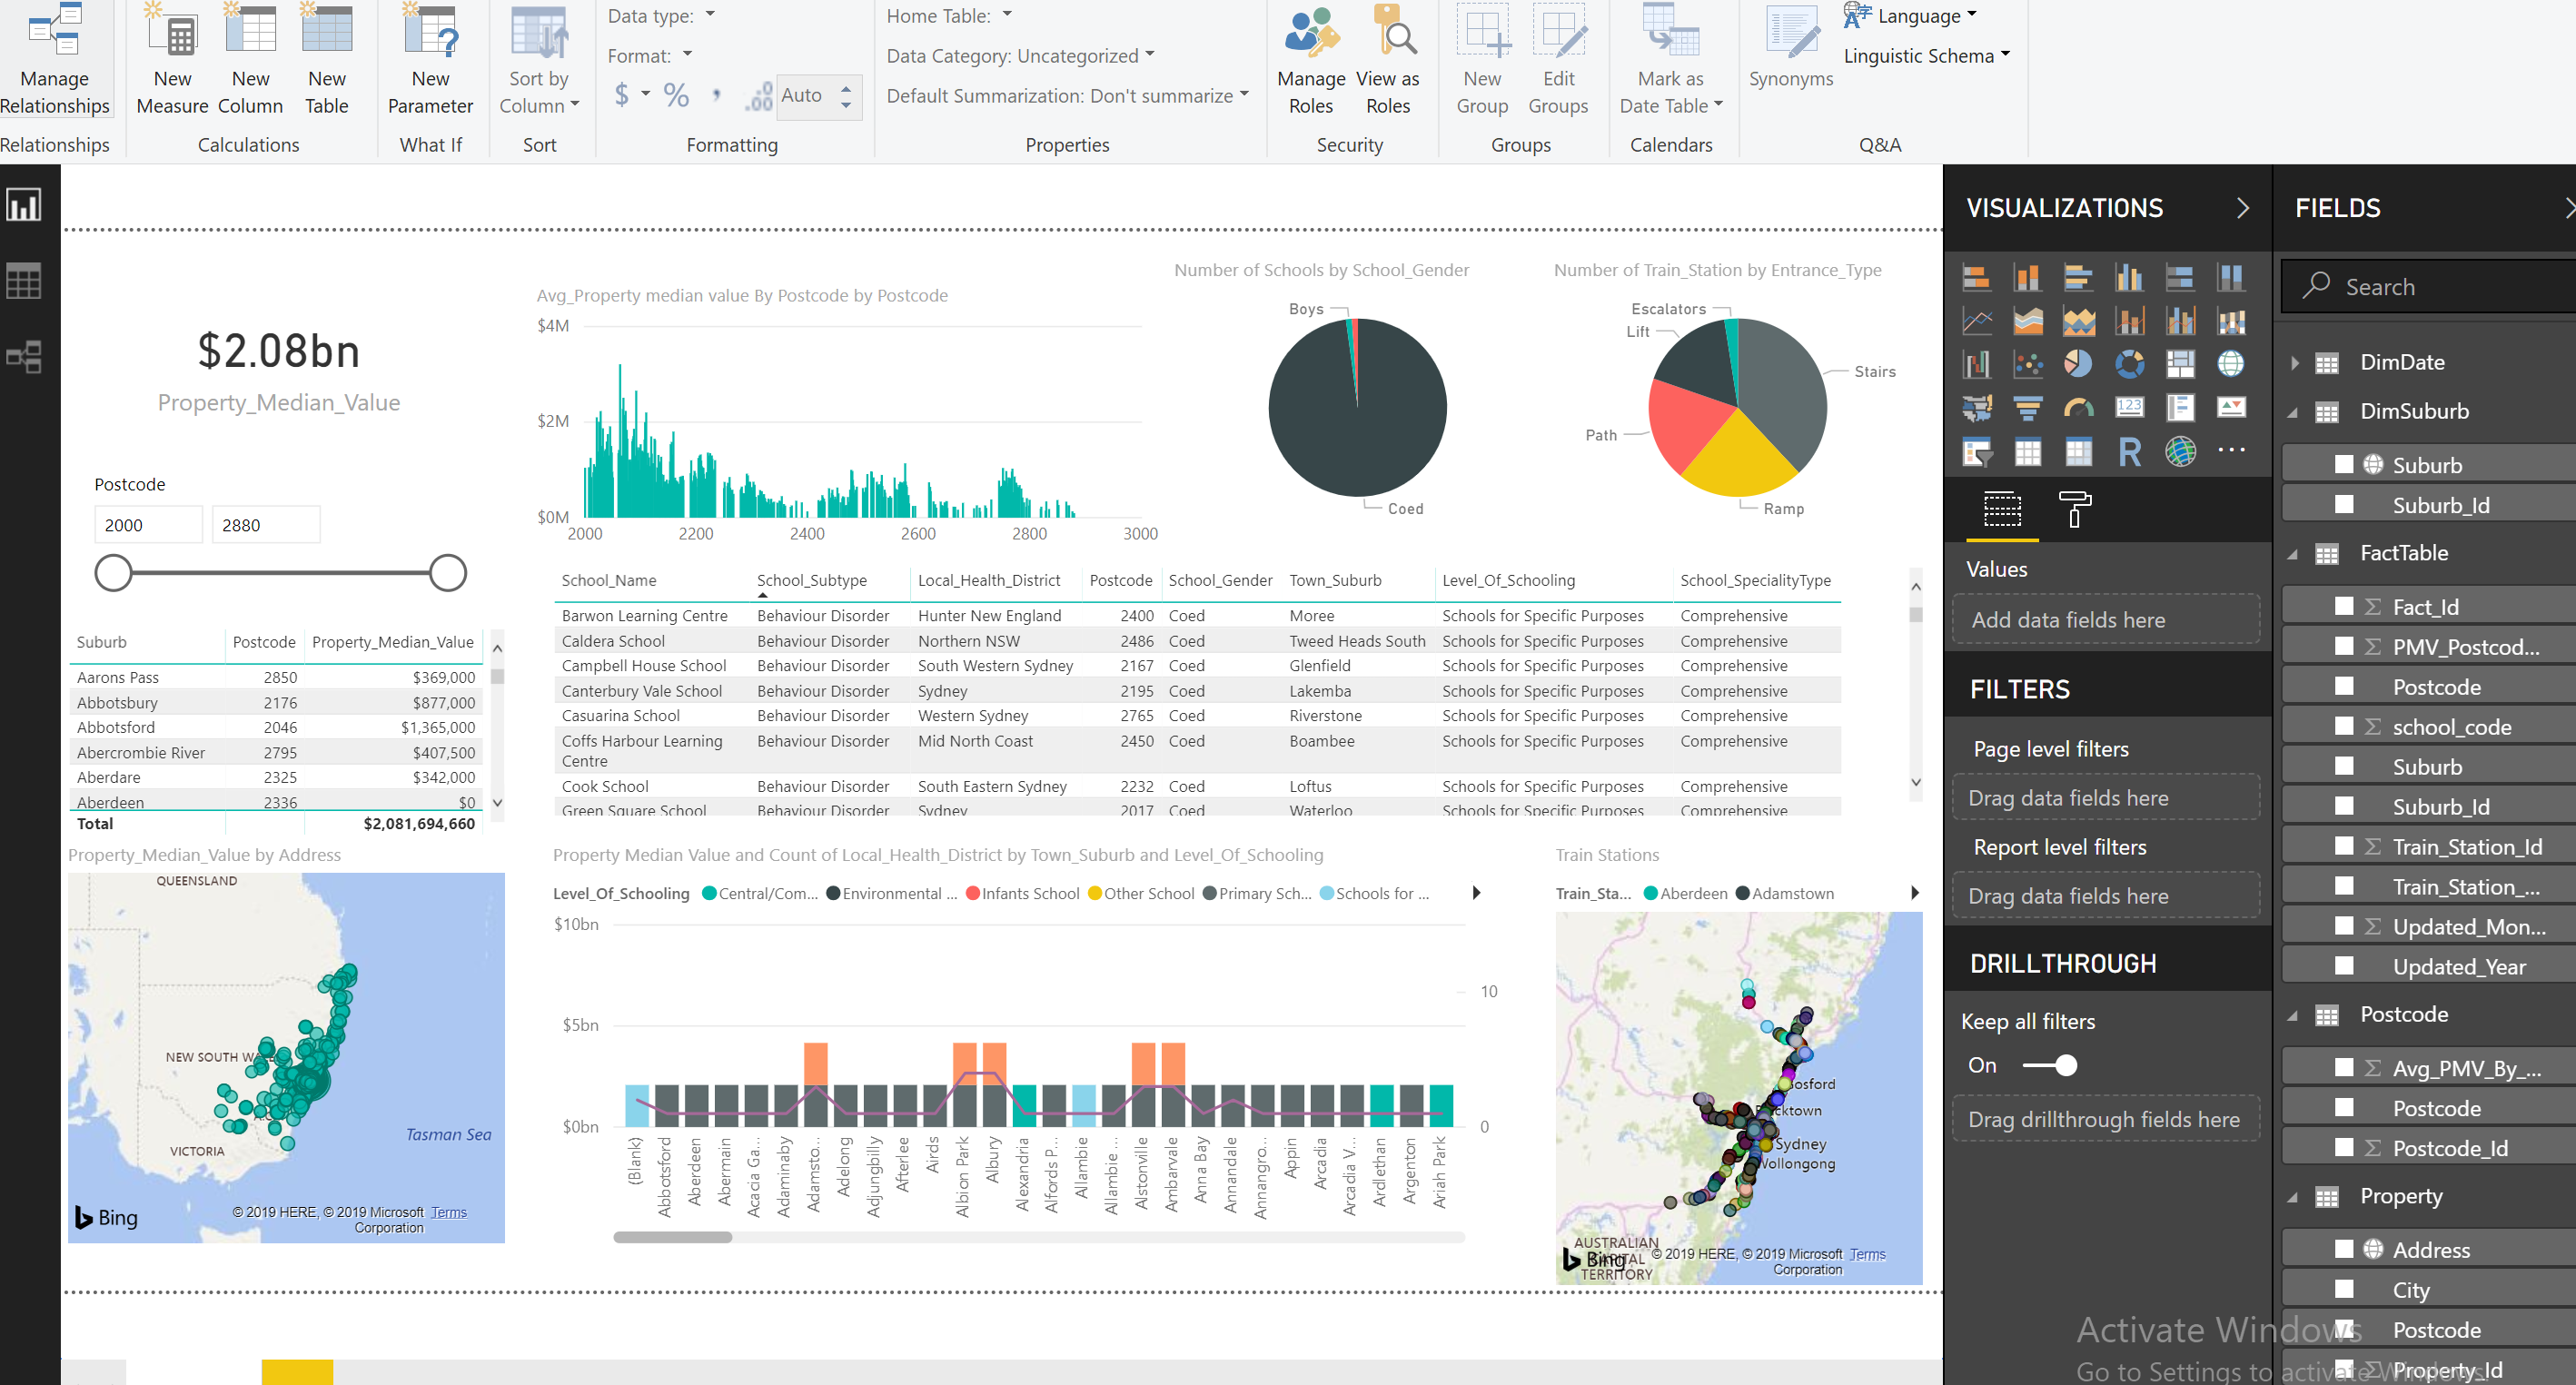

What the dashboard file says about the page in this screenshot:
{"tool":"powerbi","page":{"name":"Page 1","canvas":[1280,720],"ordinal":0},"visuals":[{"type":"card","fields":{"Values":["Sum(Property.Property_Median_Value)"]},"box":[9.9,0,276.8,177.9],"z":1},{"type":"slicer","fields":{"Values":["Property.Postcode"]},"box":[9.9,158.1,276.8,131],"z":2},{"type":"clusteredColumnChart","title":"Avg_Property median value By Postcode by Postcode","fields":{"Y":["Median(Postcode.Avg_PMV_By_Postcode)"],"Category":["Postcode.Postcode"]},"box":[318.8,34.6,433.7,189],"z":3},{"type":"tableEx","fields":{"Values":["DimSuburb.Suburb","Property.Postcode","Sum(Property.Property_Median_Value)"]},"box":[0,265.6,306.4,149.5],"z":4},{"type":"tableEx","fields":{"Values":["PublicSchoolsList.School_Name","PublicSchoolsList.School_Subtype","PublicSchoolsList.Local_Health_District","Postcode.Postcode","PublicSchoolsList.School_Gender","PublicSchoolsList.Town_Suburb","PublicSchoolsList.Level_Of_Schooling","PublicSchoolsList.School_SpecialityType"]},"box":[329.9,223.6,941.5,177.9],"z":5},{"type":"map","fields":{"Category":["Property.Address"],"Size":["Sum(Property.Property_Median_Value)"]},"box":[0,415.1,306.4,278],"z":6},{"type":"map","title":"Train Stations","fields":{"Y":["TrainStop.StationLatitude"],"Series":["TrainStop.Train_Station"],"X":["TrainStop.StationLongitude"]},"box":[1011.9,415.1,259.5,306.4],"z":7},{"type":"lineStackedColumnComboChart","title":"Property Median Value and Count of Local_Health_District by Town_Suburb and Level_Of_Schooling","fields":{"Y":["Sum(Property.Property_Median_Value)"],"Series":["PublicSchoolsList.Level_Of_Schooling"],"Y2":["CountNonNull(PublicSchoolsList.Local_Health_District)"],"Category":["PublicSchoolsList.Town_Suburb"]},"box":[329.9,415.1,652.4,278],"z":8},{"type":"pieChart","title":"Number of Schools by School_Gender","fields":{"Category":["PublicSchoolsList.School_Gender"],"Y":["CountNonNull(PublicSchoolsList.School_Name)"]},"box":[752.4,17.3,259.5,189],"z":9},{"type":"pieChart","title":"Number of Train_Station by Entrance_Type","fields":{"Category":["TrainStop.Entrance_Type"],"Y":["CountNonNull(TrainStop.Train_Station)"]},"box":[1011,17,260,189],"z":10}]}

Visuals, with their boxes on the page's 1280x720 design canvas (x1, y1, x2, y2). These are canvas units, not pixel positions in the 2576x1385 screenshot, which may show the page scaled, cropped or inside an application window:
card - Sum(Property.Property_Median_Value): 10/0/287/178
slicer - Property.Postcode: 10/158/287/289
"Avg_Property median value By Postcode by Postcode" clusteredColumnChart: 319/35/752/224
tableEx - DimSuburb.Suburb x Property.Postcode: 0/266/306/415
tableEx - PublicSchoolsList.School_Name x PublicSchoolsList.School_Subtype: 330/224/1271/402
map - Property.Address x Sum(Property.Property_Median_Value): 0/415/306/693
"Train Stations" map: 1012/415/1271/722
"Property Median Value and Count of Local_Health_District by Town_Suburb and Level_Of_Schooling" lineStackedColumnComboChart: 330/415/982/693
"Number of Schools by School_Gender" pieChart: 752/17/1012/206
"Number of Train_Station by Entrance_Type" pieChart: 1011/17/1271/206
